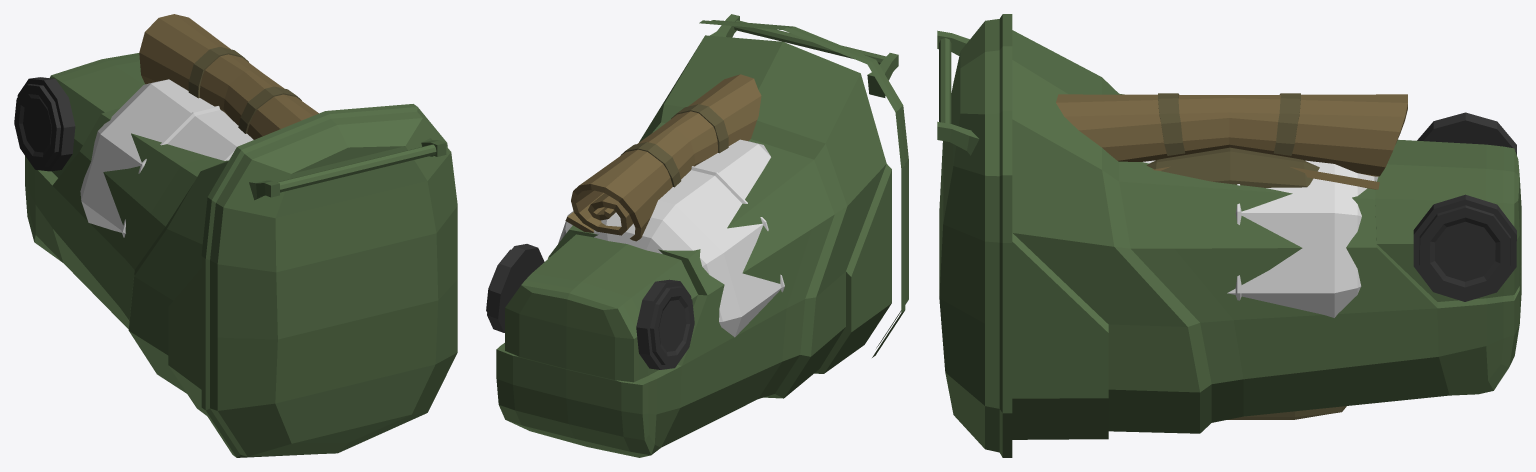
File: props.glb
3 views of the same model, side by side, from view 1: azimuth 30°, elevation 25°; view 2: azimuth 150°, elevation 25°; view 3: azimuth 270°, elevation 25° (orthographic). The views are drawn at different scales.
Visible parts, largest first — view 1: Trashcan, Backpack, PropaneTank; view 2: Trashcan, PropaneTank, Backpack; view 3: Trashcan, Backpack, PropaneTank.
Boxes of the visible parts, <box> form: Trashcan: <box>14,53,457,457</box>; Backpack: <box>139,14,318,139</box>; PropaneTank: <box>80,79,253,237</box>; Trashcan: <box>486,14,908,457</box>; PropaneTank: <box>558,139,784,337</box>; Backpack: <box>565,74,761,241</box>; Trashcan: <box>937,14,1521,457</box>; Backpack: <box>1056,93,1407,419</box>; PropaneTank: <box>1143,160,1378,317</box>.
Bounding box in the file's own units: 0.4954 × 0.6477 × 0.9.
